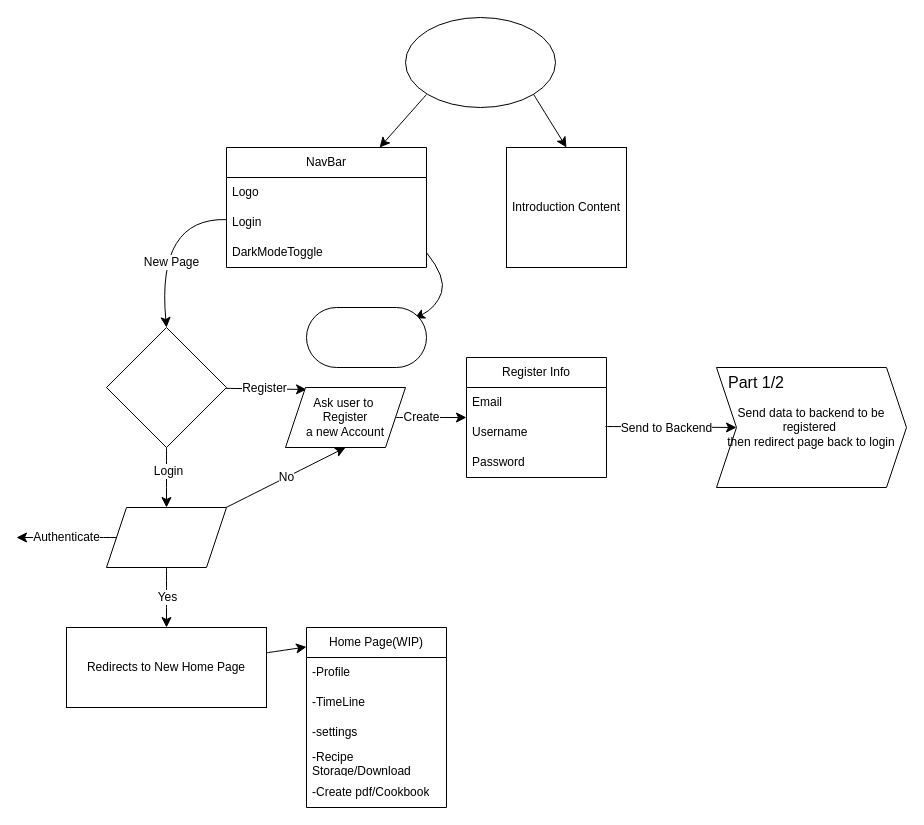
This 924x825 diagram has some shape labels left out. The shapes that lost their labels are listed below. From the top down, each one's centre as x and y in pixels, then its label:
the point at 480,62: Home/LandingPage
the point at 366,337: Toggles light or dark Mode
the point at 166,387: Login/Register Account
the point at 166,537: Does Account Exist?
